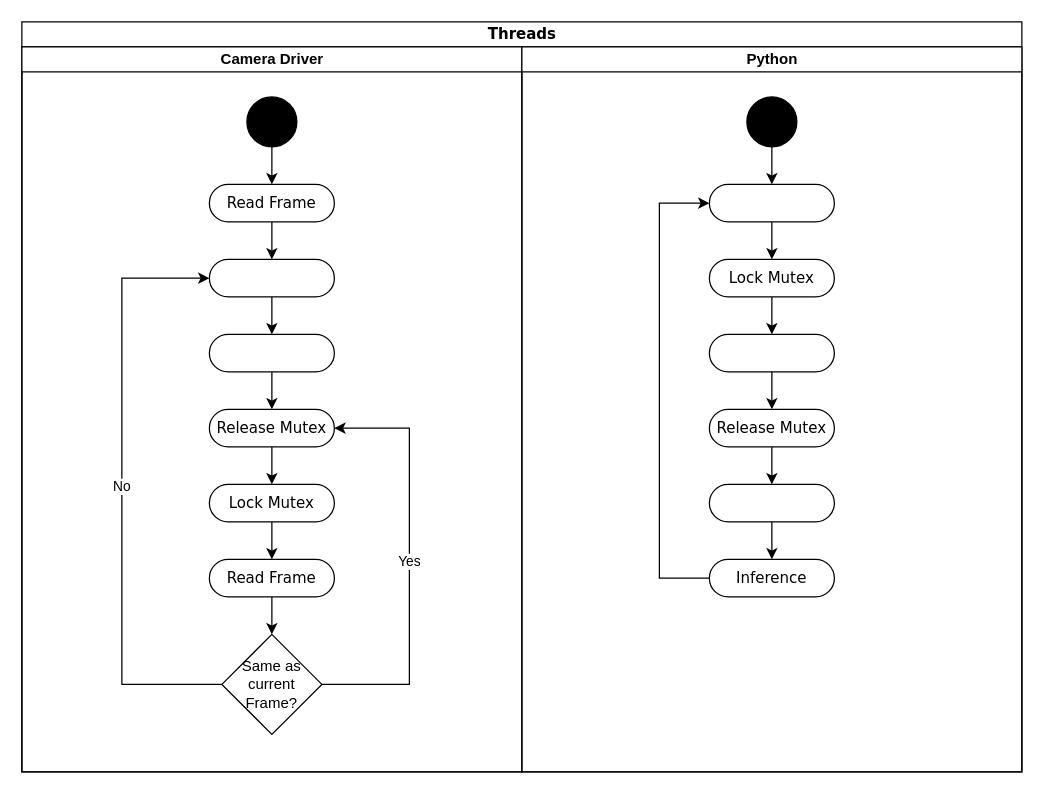
The diagram is 1044 pixels wide and 794 high, and some of its shapes have lost their labels. Each missing label, with the centre of its shape:
Copy currentFrame: point (771, 352)
Copy to currentFrame: point (271, 277)
Release Semaphore: point (271, 352)
Send copy to GPU: point (771, 502)
Wait for Semaphore: point (771, 202)
